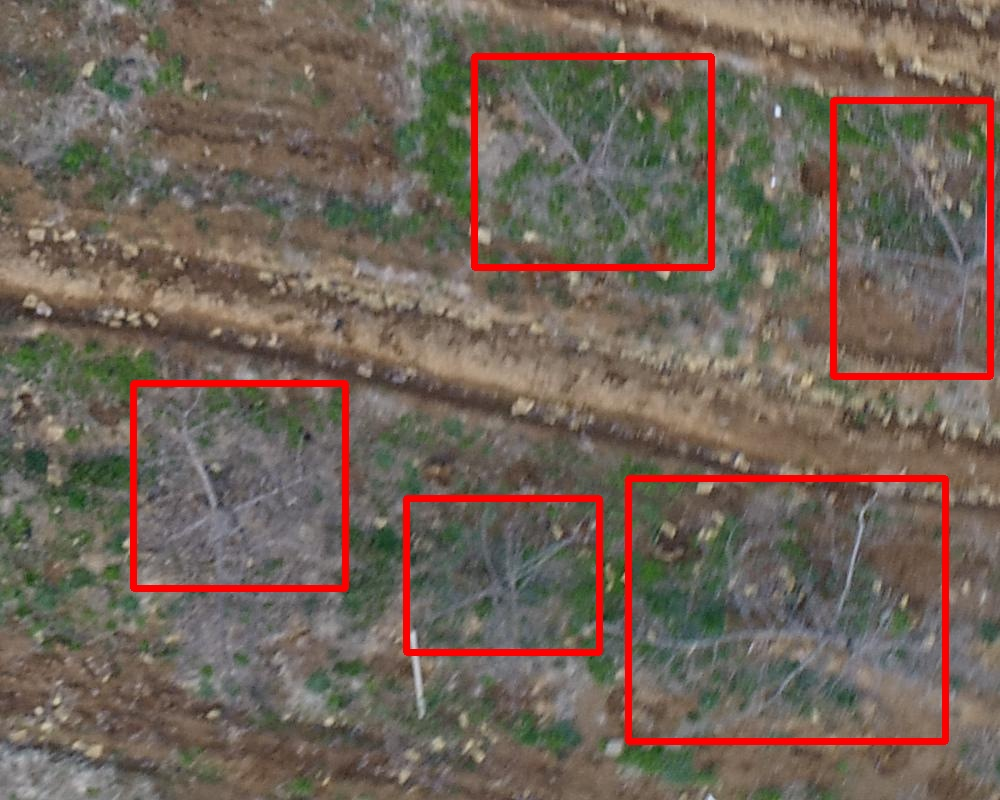apple: (628, 478, 945, 741), (474, 56, 711, 267), (133, 383, 345, 588), (833, 100, 990, 376), (406, 498, 599, 652)
